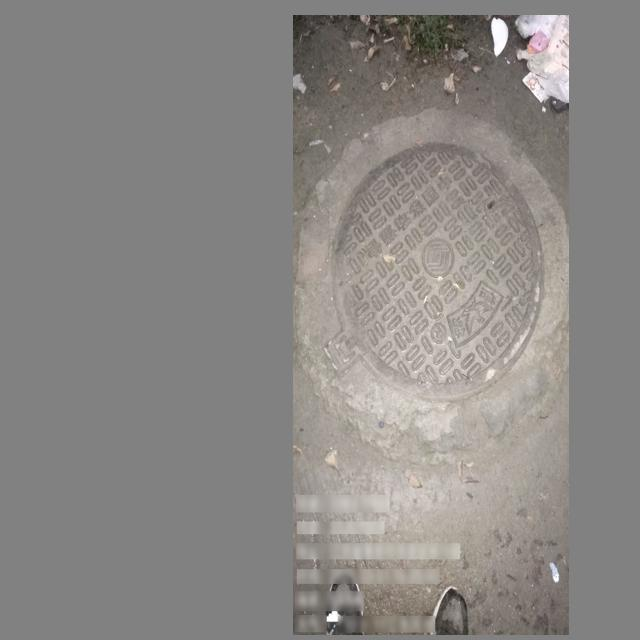good: (304, 115, 566, 443)
